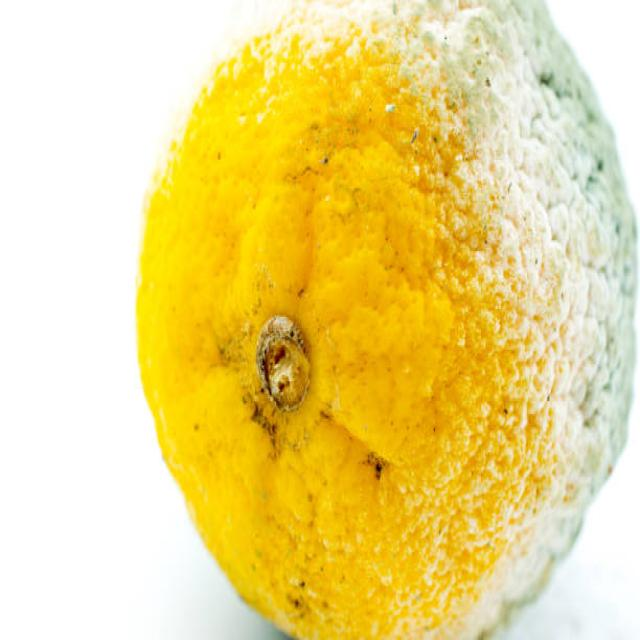Rotten: (134, 0, 640, 640)
